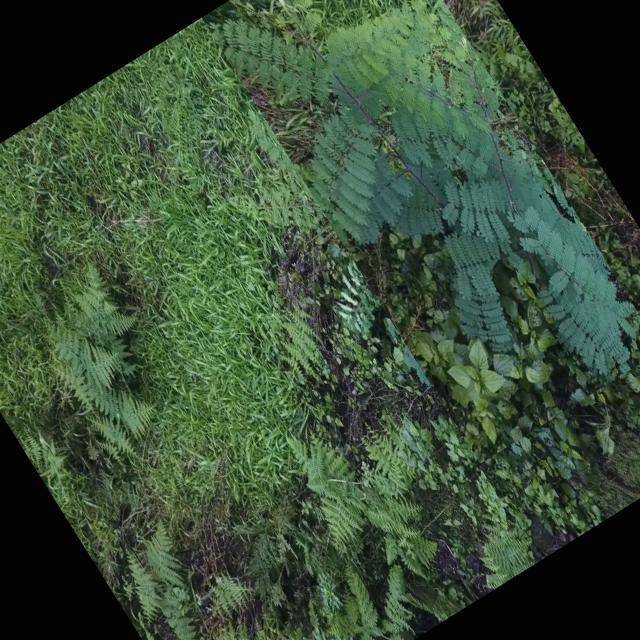Mysore-Thorn-Weed: (201, 0, 640, 463)
